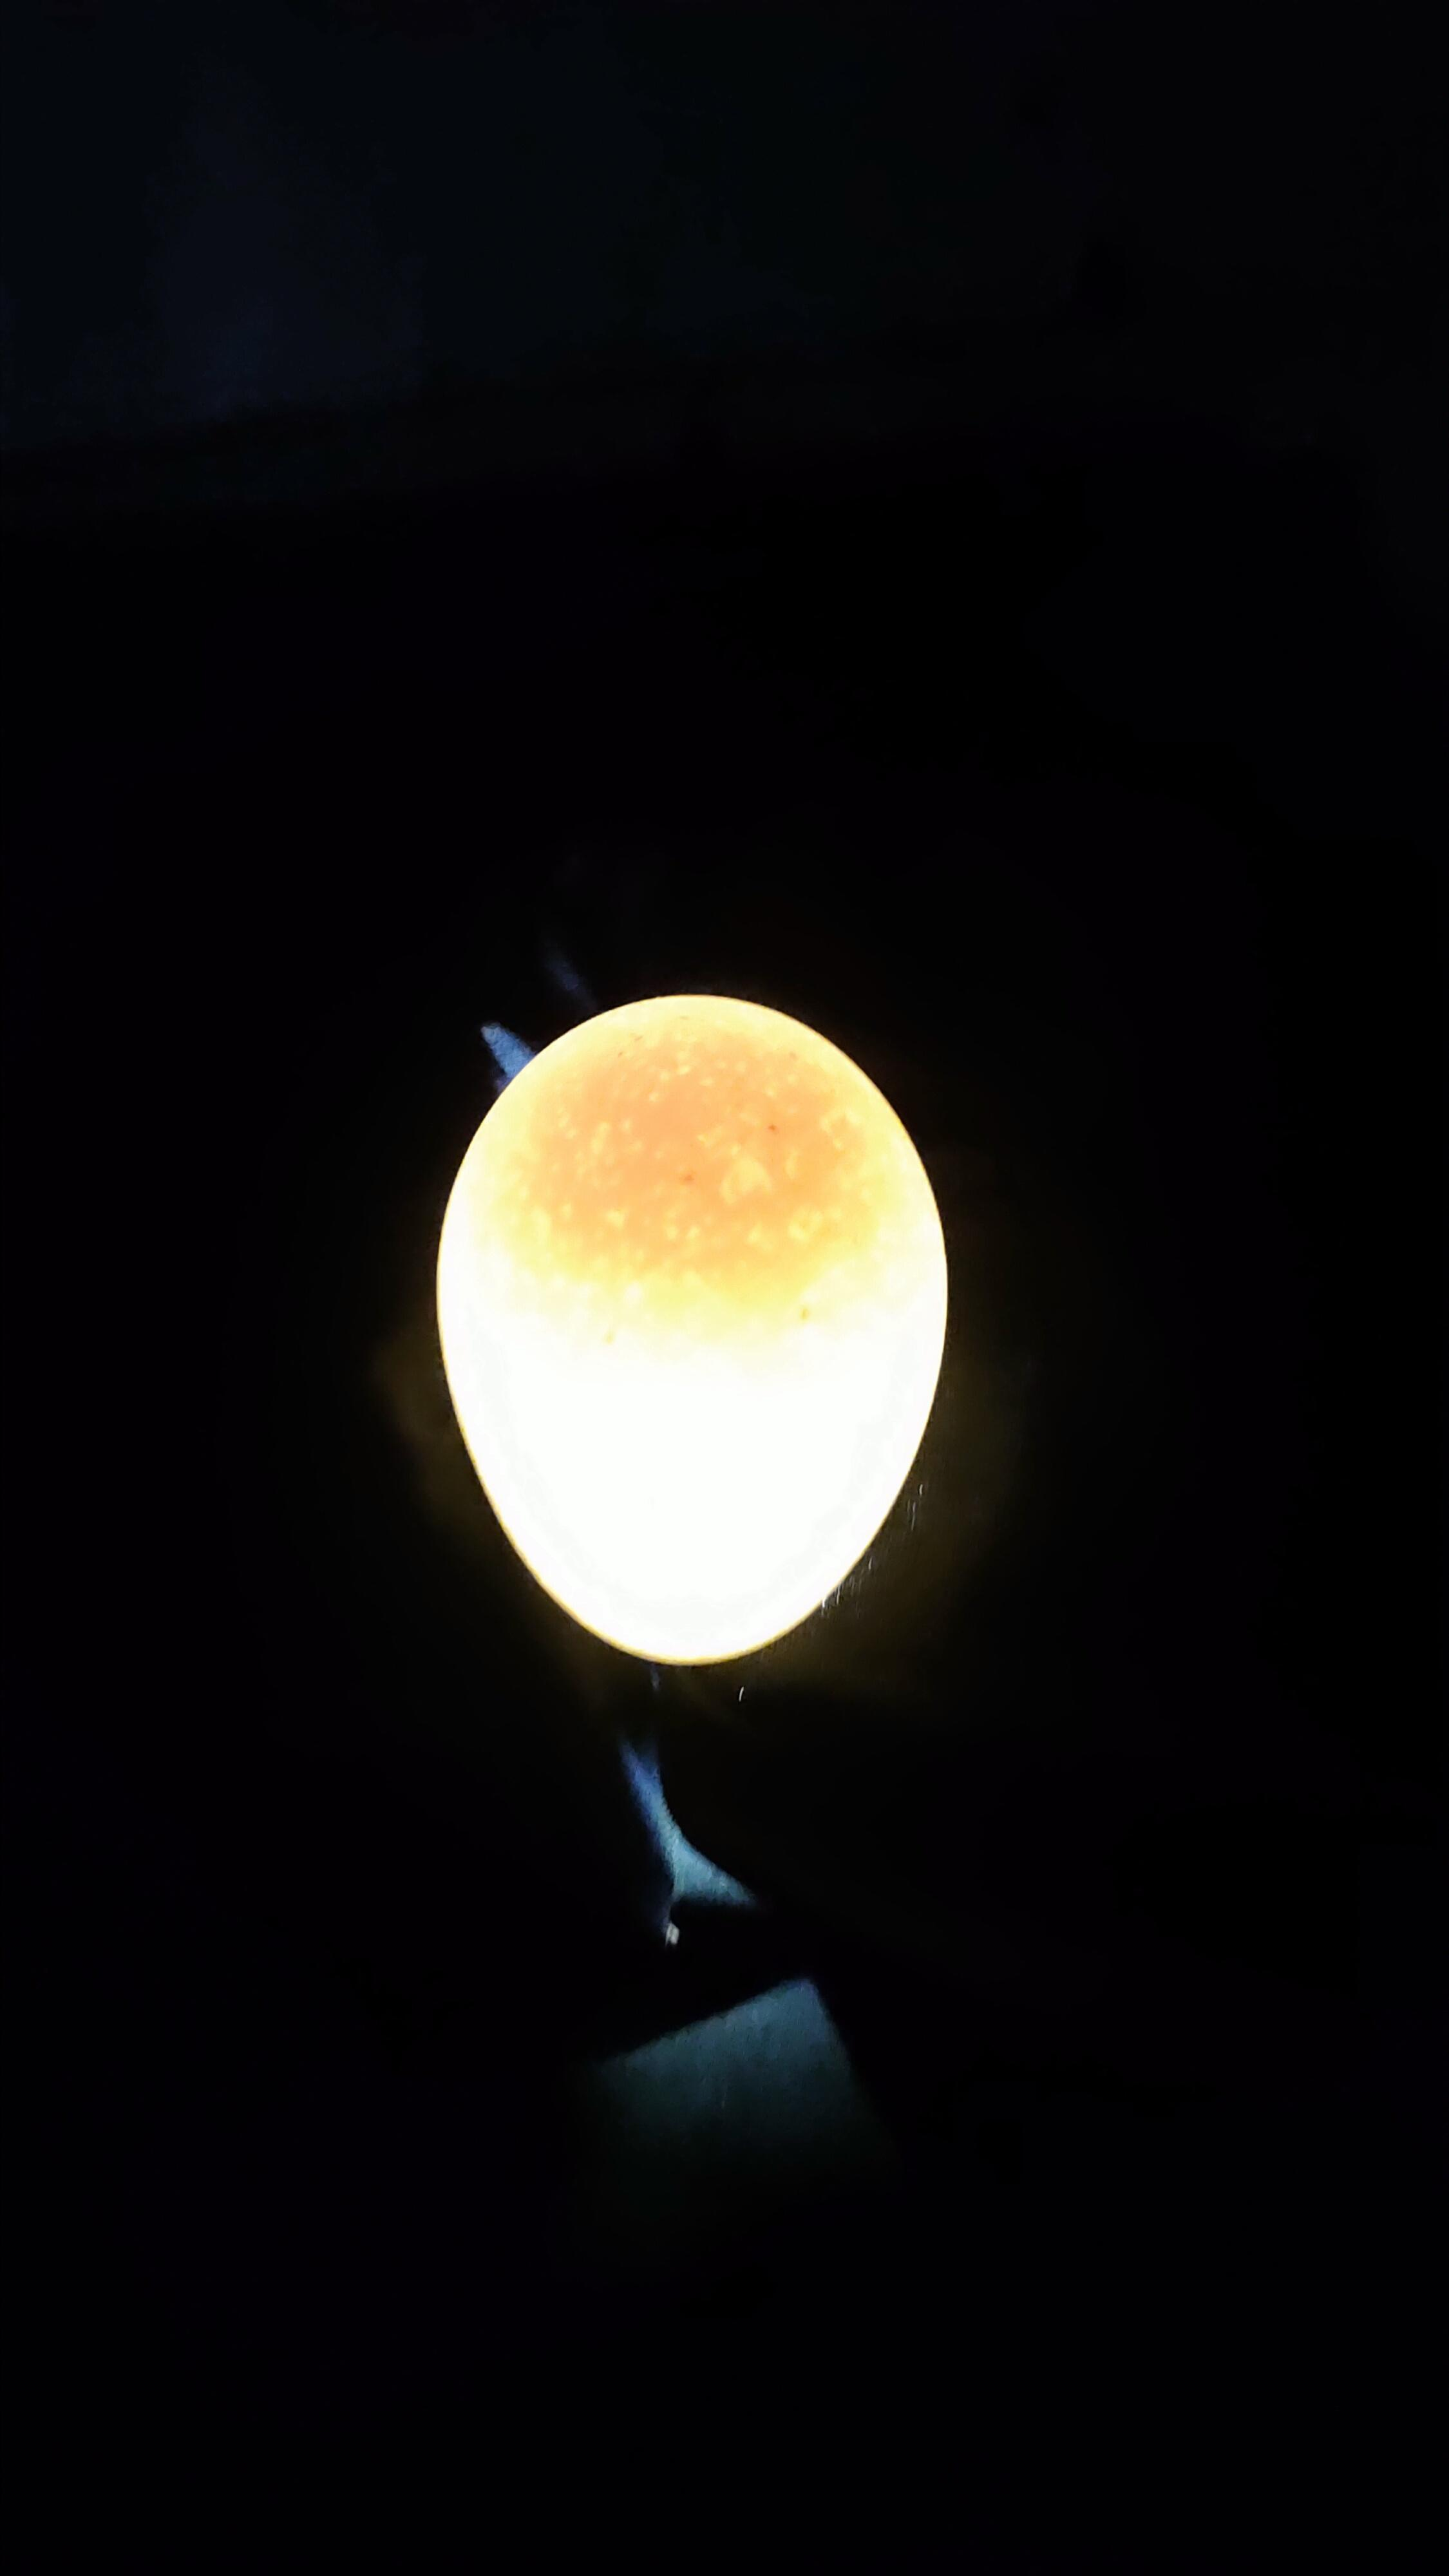Inedible: (419, 953, 985, 1732)
